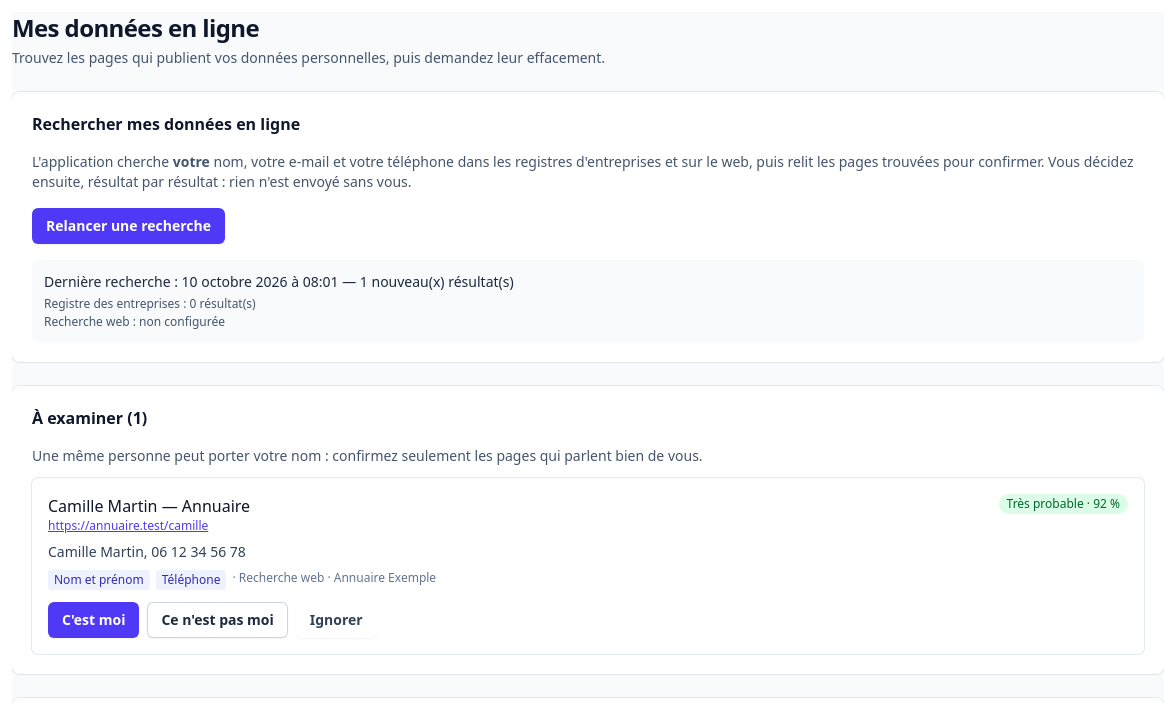
Page « Mes données en ligne » › « C'est moi » envoie la décision et déplace le résultat dans les confirmés
Click the button "C'est moi".
click(94, 620)  # box [48,602,139,638]
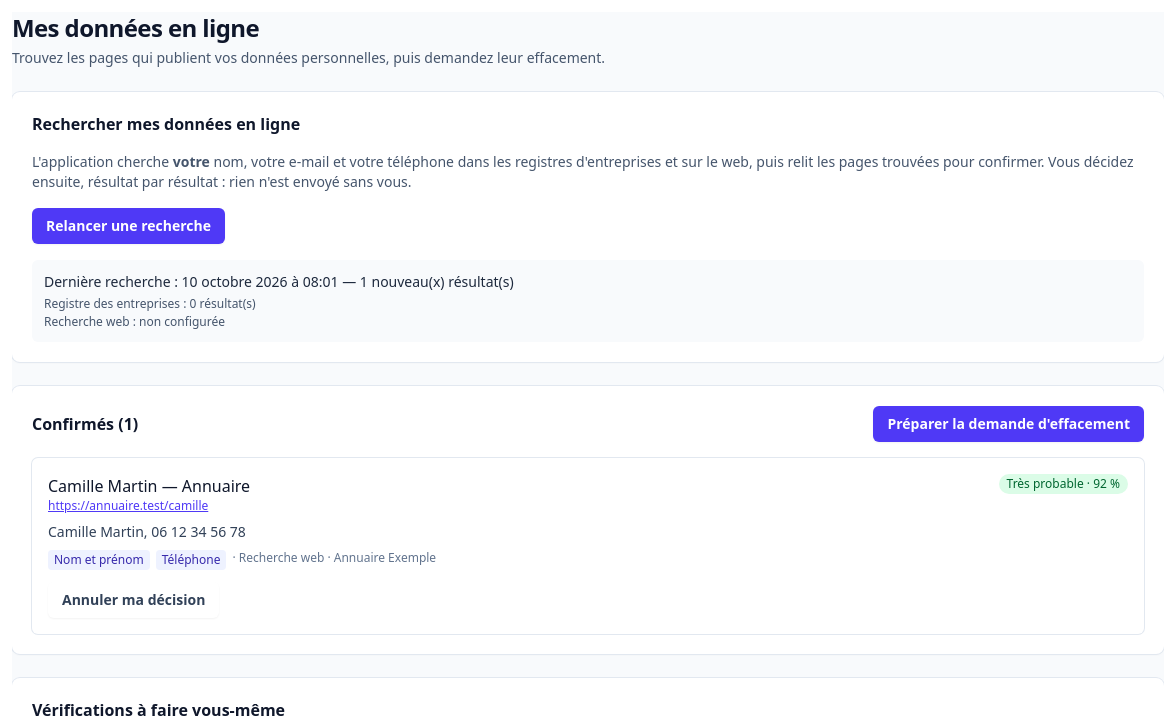
Result: the heading "Confirmés (1)" is shown at [32,412,138,436]
Result: the heading "À examiner" is gone
